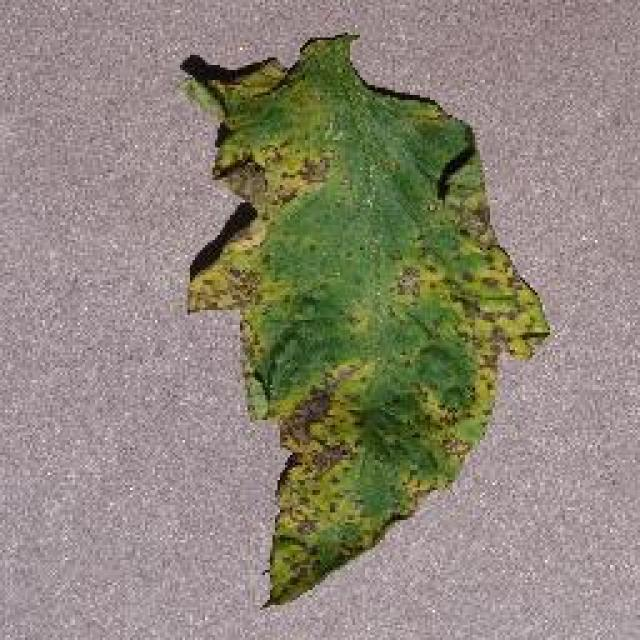Tomato___Septoria_leaf_spot: (182, 32, 548, 602)
